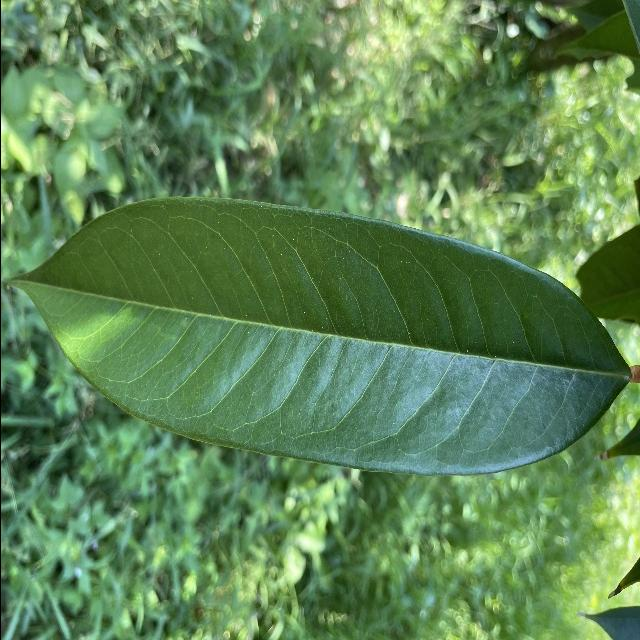No Disease: (4, 179, 639, 483)
